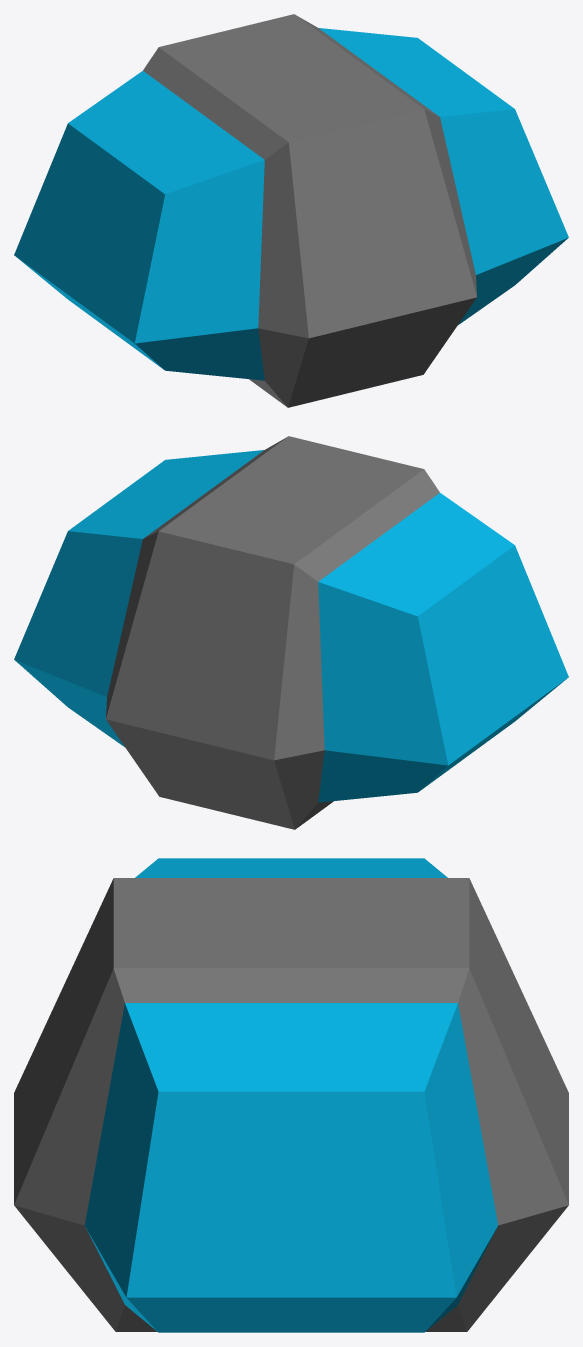
The model's file is _1Ship_PIece28.fbx.
3 renders of one model, top to bottom at view 1: azimuth 30°, elevation 25°; view 2: azimuth 150°, elevation 25°; view 3: azimuth 270°, elevation 25°, orthographic. The views are drawn at different scales.
Visible parts, largest first — view 1: Ship_PIece28; view 2: Ship_PIece28; view 3: Ship_PIece28.
Boxes of the visible parts, box(x1,y1,x2,y2) form: Ship_PIece28: box(14, 14, 568, 407); Ship_PIece28: box(14, 436, 568, 829); Ship_PIece28: box(14, 858, 568, 1332).
Bounding box in the file's own units: 322 × 189 × 261.
